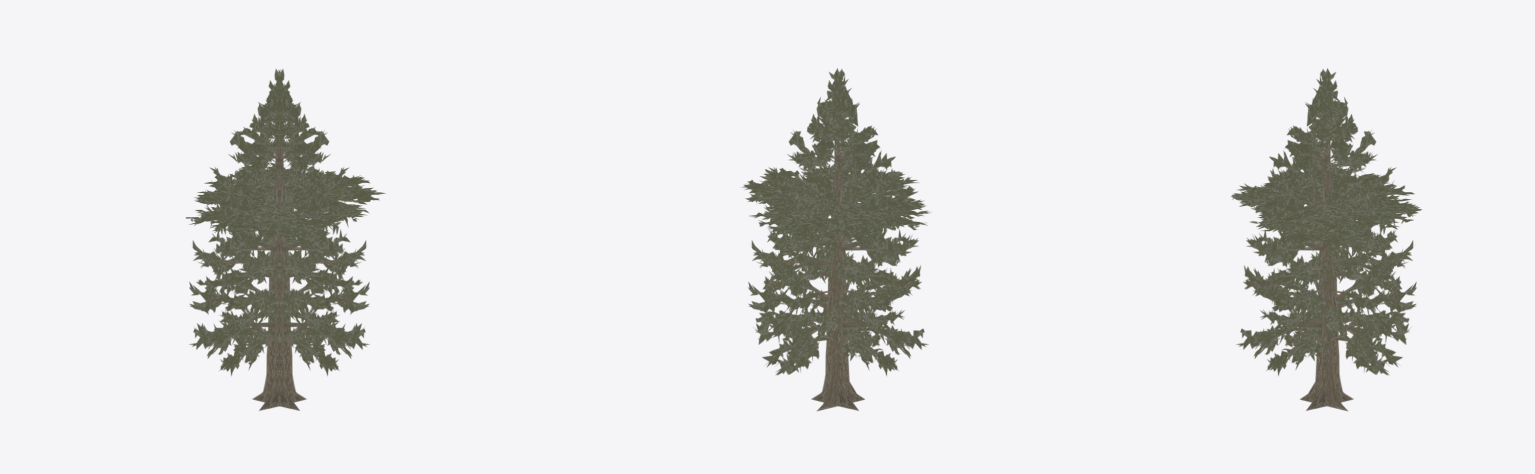
The model's file is conifer-cards.glb.
The picture shows the model from 3 angles, left to right: view 1: azimuth 30°, elevation 25°; view 2: azimuth 150°, elevation 25°; view 3: azimuth 270°, elevation 25°; orthographic projection.
Parts seen in each view (by area): view 1: cards; view 2: cards; view 3: cards.
Part boxes in pixels (x1,y1,x2,y2): cards: [186, 69, 385, 410]; cards: [741, 68, 930, 411]; cards: [1231, 68, 1421, 411].
Bounding box in the file's own units: 13.52 × 13.52 × 13.52.
1 material, 1 textured.
